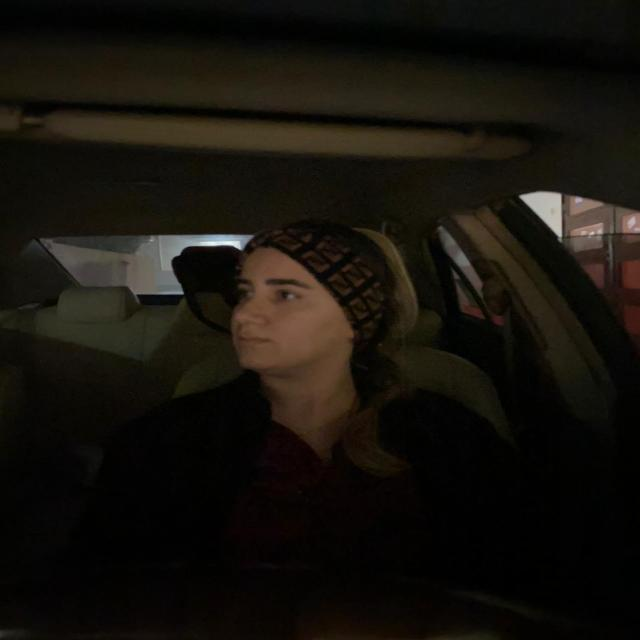LeftRight: (207, 212, 410, 406)
